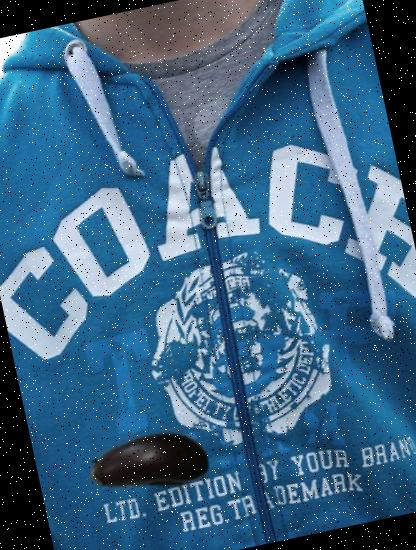Eggplant: (74, 386, 223, 535)
